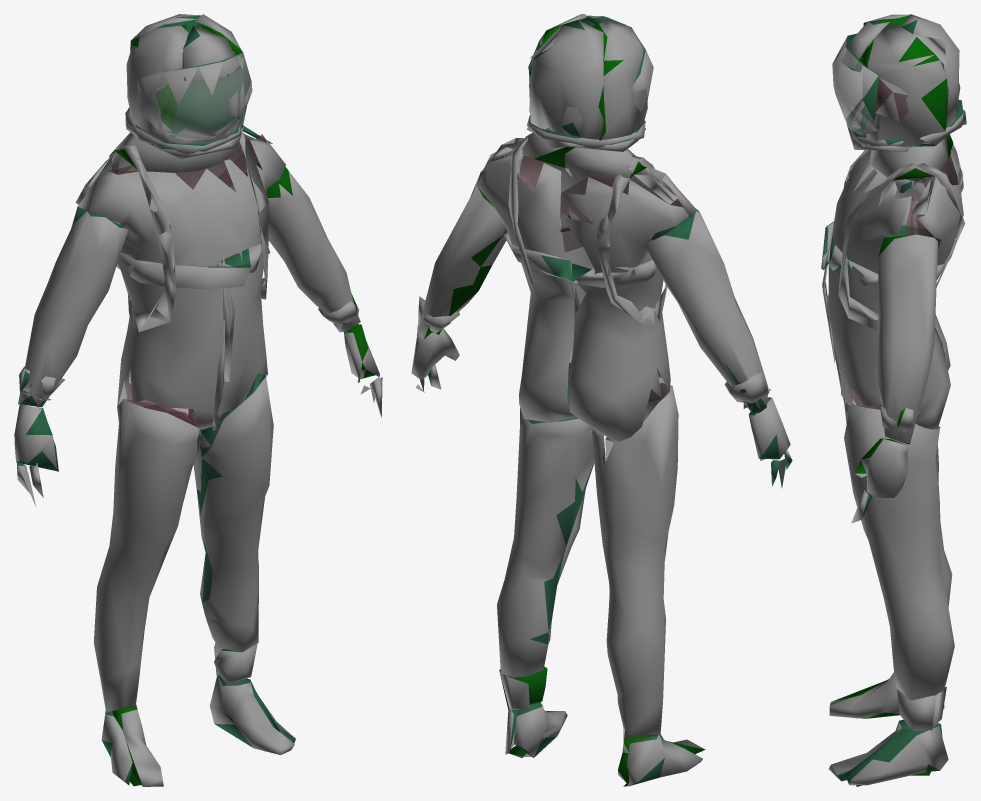
The model's file is mercury_M.obj.
The picture shows the model from 3 angles, left to right: view 1: azimuth 30°, elevation 25°; view 2: azimuth 150°, elevation 25°; view 3: azimuth 270°, elevation 25°; orthographic projection. The views are drawn at different scales.
Bounding box in the file's own units: 1.05 × 2 × 0.3637.
